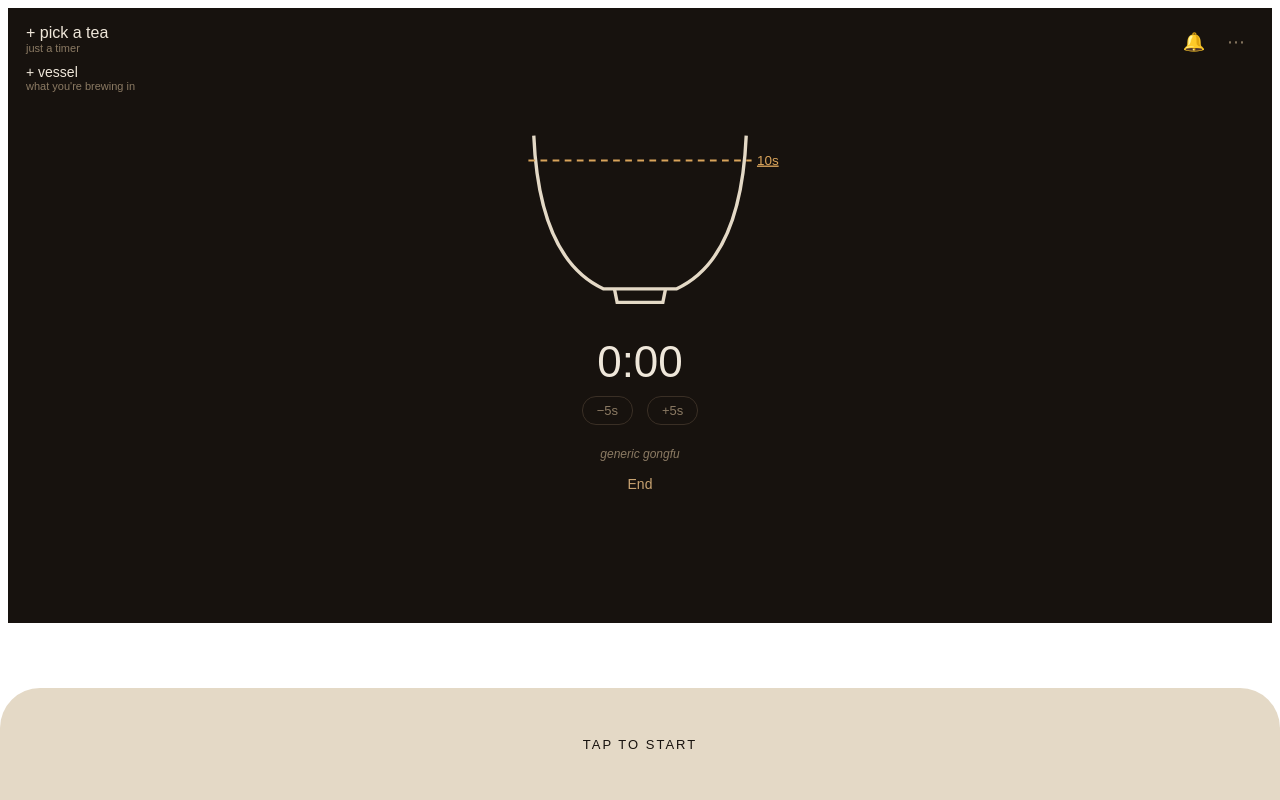
it: TimerPage › logs the target when stopped during the ring
Click the button with test id "timer-band": {"x": 640, "y": 744} [0,688,1279,799]
Wait 11500 ms
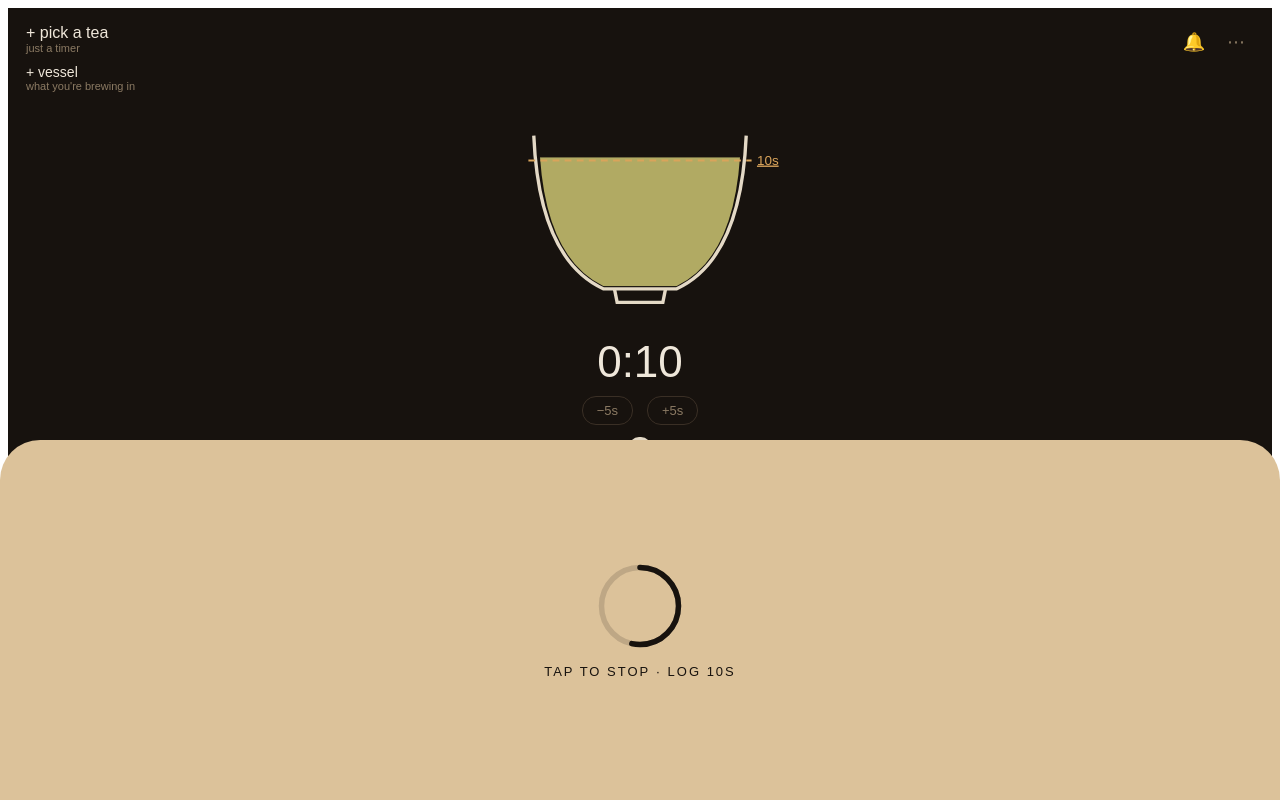
Click the button with test id "timer-band": {"x": 77, "y": 620} [0,440,1279,799]
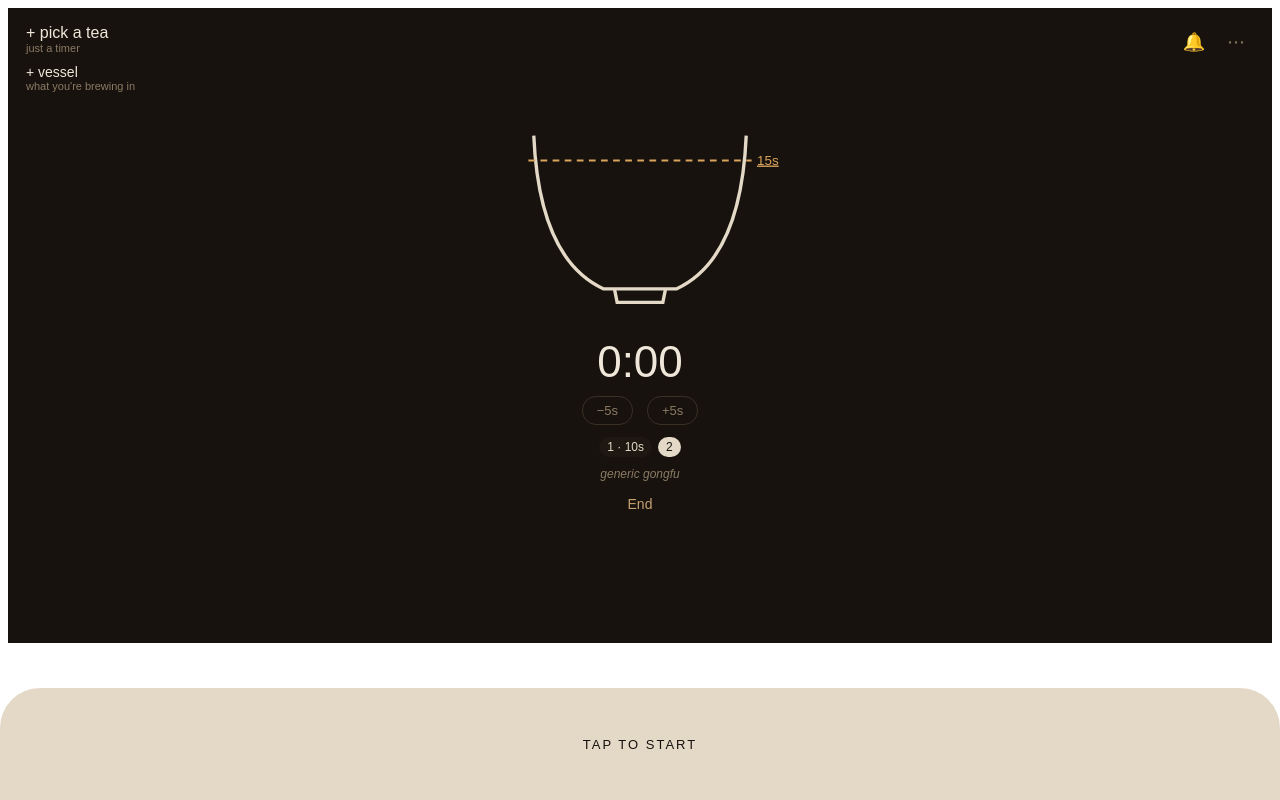
Check: the button with test id "timer-chip-1" reads "1 · 10s", box [599,437,652,457]
